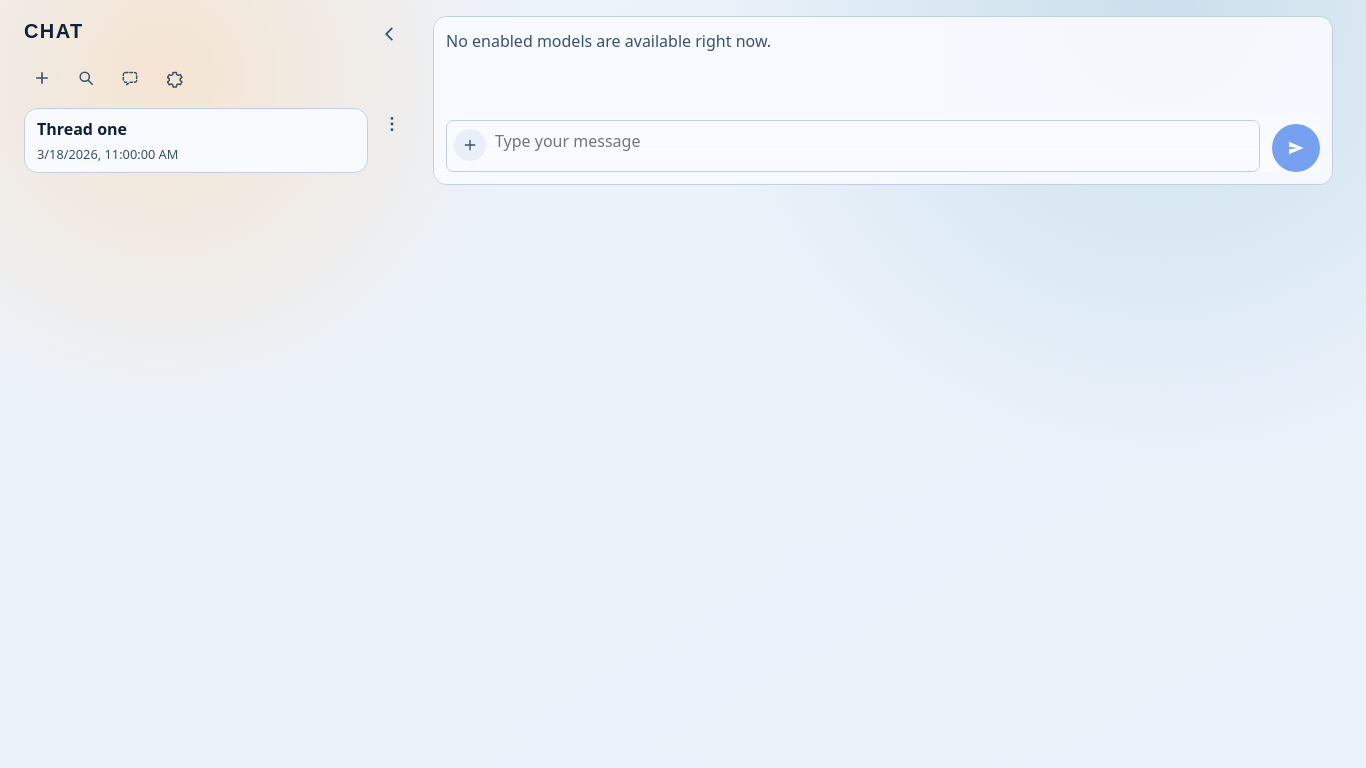
Test: ChatPlaygroundPage › surfaces an honest unavailable-model state when no enabled models are returned
The image size is (1366, 768).
expect the text "No enabled models are available right now." is shown: met, box [446, 30, 771, 52]
Click the button named "Chat settings" at (174, 78), box [156, 60, 192, 96]
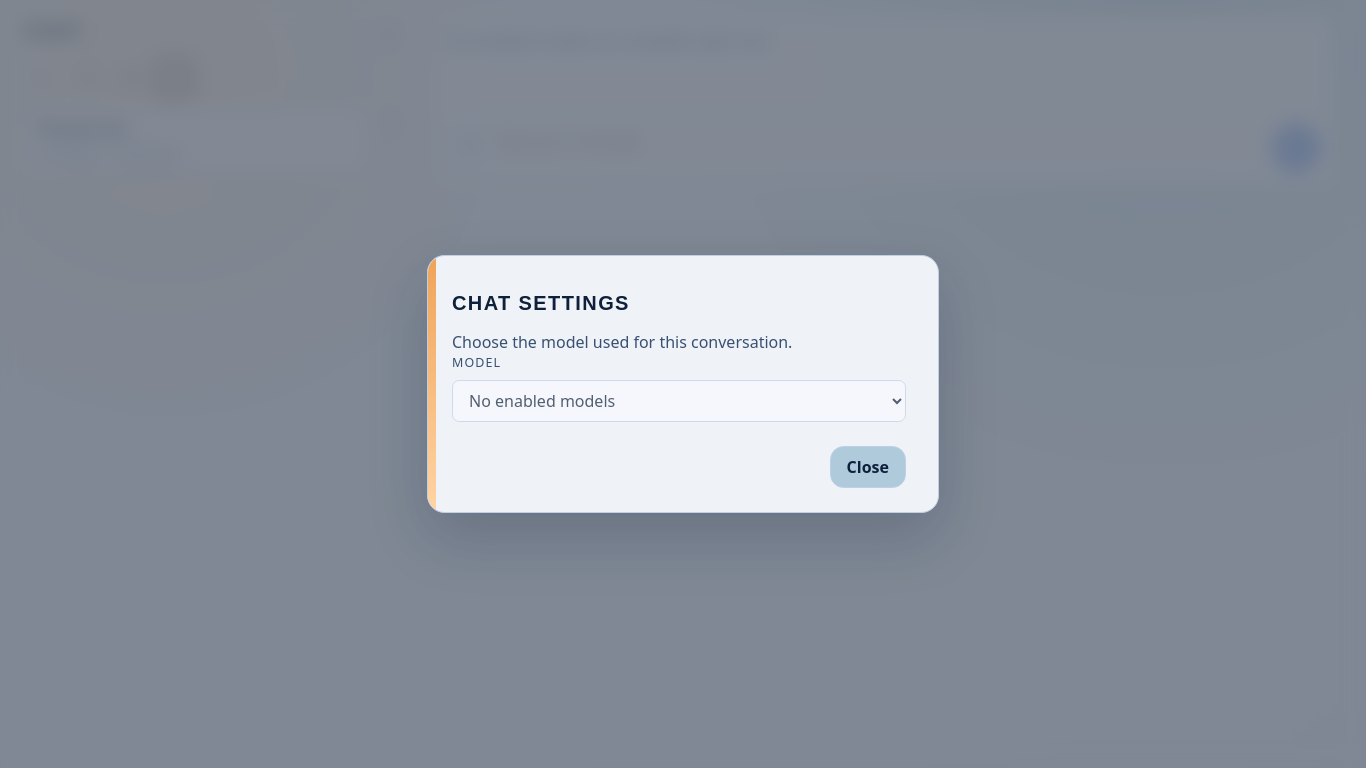
expect the dropdown labelled "Model" shows "No enabled models": met, box [452, 380, 906, 422]
